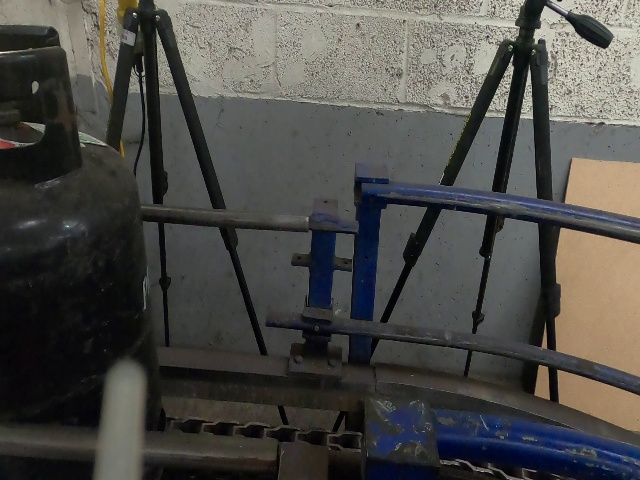gas_bottle: (0, 0, 637, 476)
